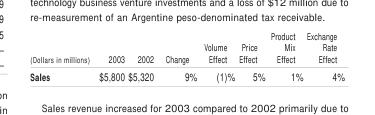table: (29, 28, 344, 83)
table column: (29, 28, 93, 83), (158, 28, 199, 83), (304, 28, 344, 83), (199, 28, 236, 83), (267, 28, 304, 83), (125, 28, 158, 83), (93, 28, 125, 83), (236, 28, 267, 83)
table column header: (29, 28, 344, 66)
table row: (29, 28, 344, 66), (29, 66, 344, 83)
